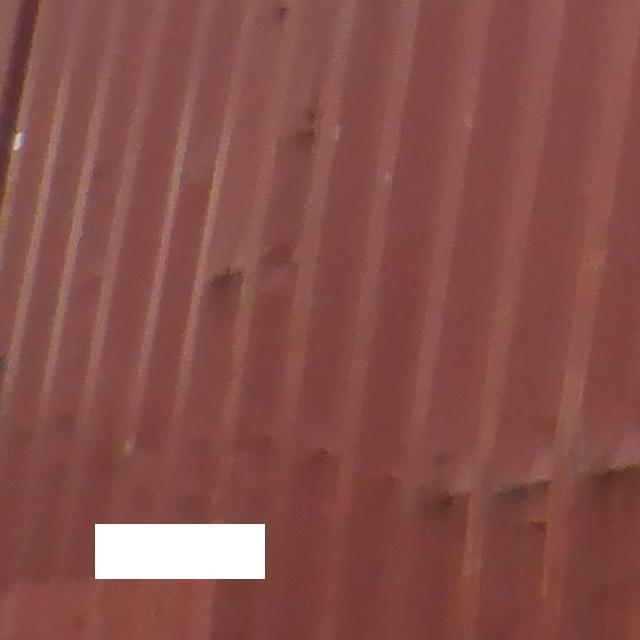dent: (409, 448, 640, 527), (204, 249, 304, 303), (282, 100, 336, 154)
